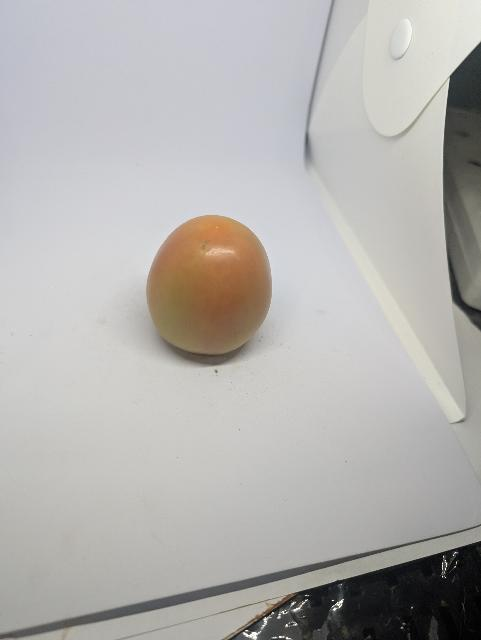turning: (145, 211, 277, 365)
